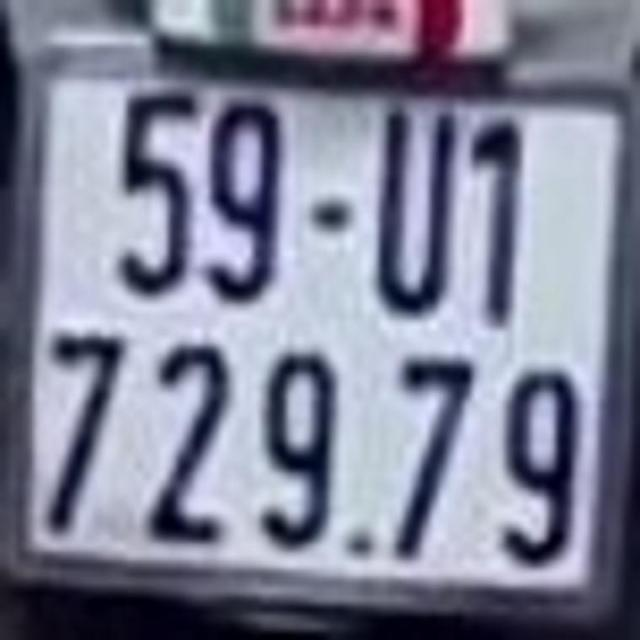1: (468, 120, 527, 322)
2: (148, 337, 223, 545)
5: (117, 91, 203, 295)
7: (387, 352, 480, 570), (39, 329, 124, 528)
9: (498, 357, 577, 566), (258, 346, 336, 551), (208, 96, 282, 301)
U: (370, 106, 454, 317)
